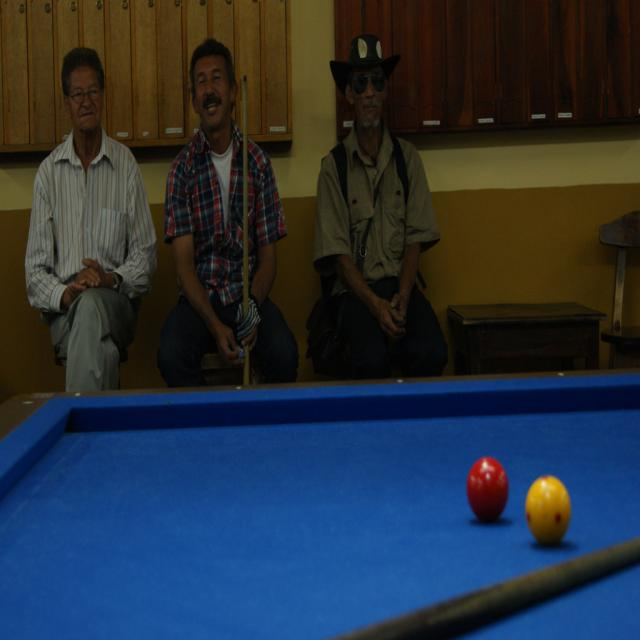Ball: (524, 474, 571, 544), (467, 457, 508, 521)
